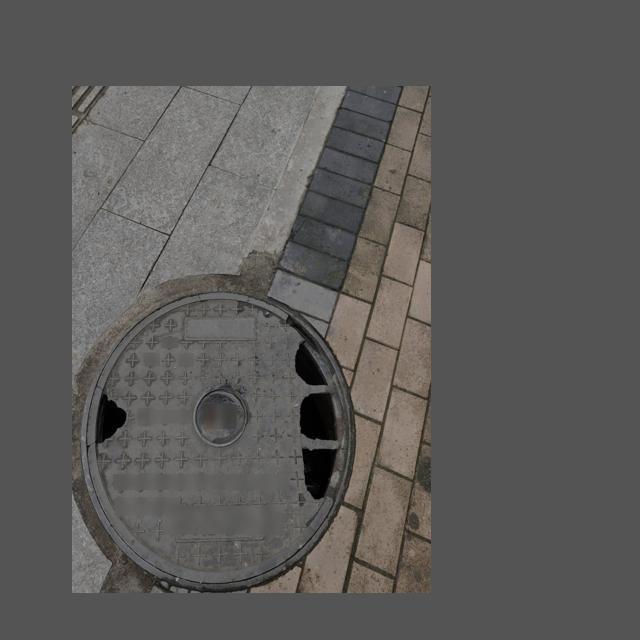broke: (85, 311, 347, 581)
